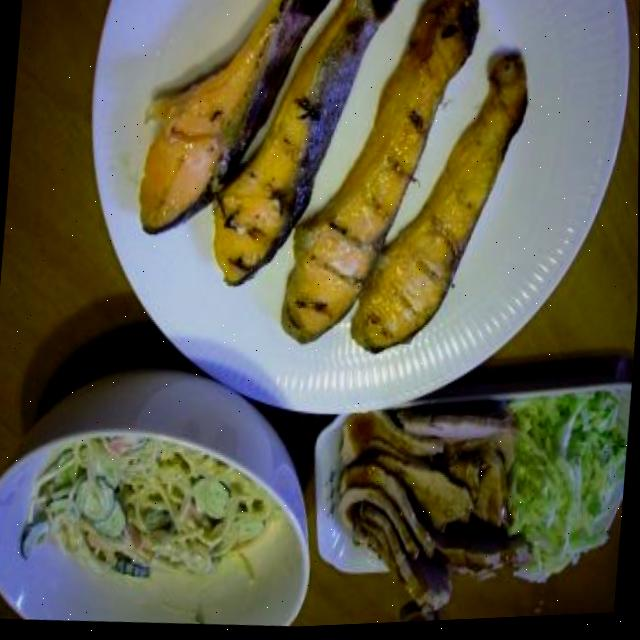熟制海鲜: (134, 0, 523, 377)
